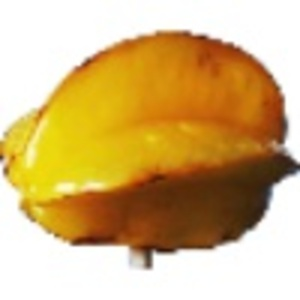carambola: (1, 29, 300, 270)
